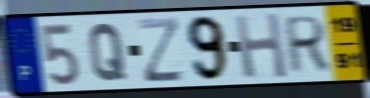5: (38, 21, 83, 87)
9: (185, 14, 232, 83)
H: (232, 11, 290, 81)
Q: (87, 21, 128, 83)
R: (284, 13, 331, 76)
Z: (134, 15, 187, 85)
